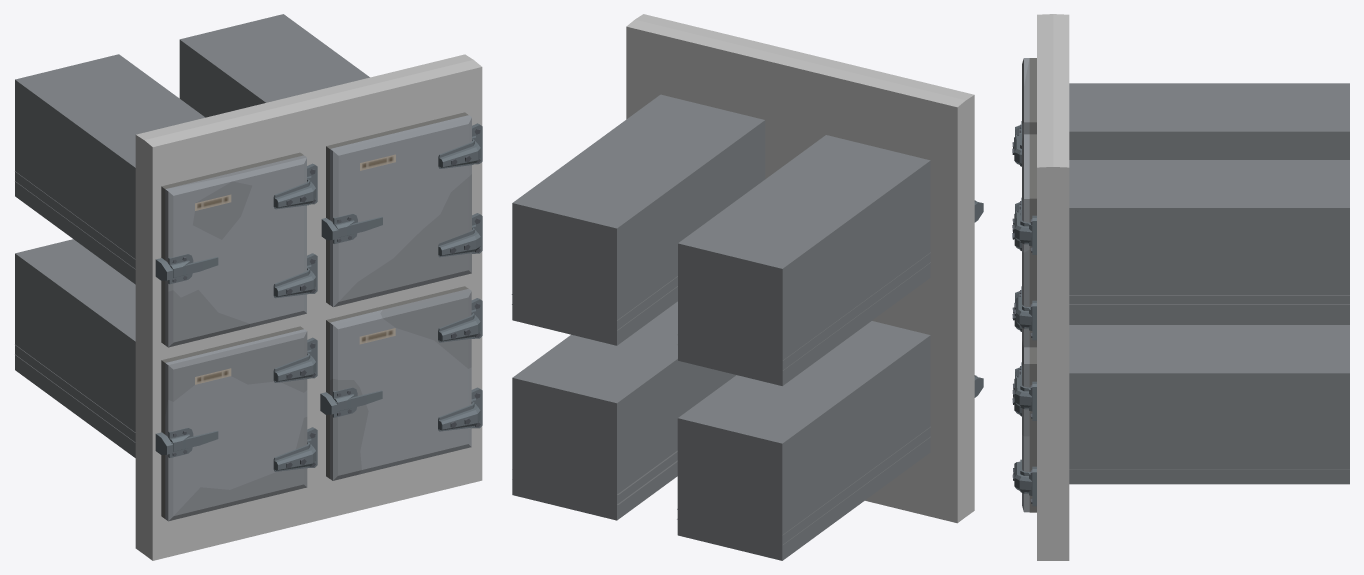
The model's file is SM_Prop_Morgue_Wall_01.fbx.
3 views of the same model, side by side, from view 1: azimuth 30°, elevation 25°; view 2: azimuth 150°, elevation 25°; view 3: azimuth 270°, elevation 25° (orthographic). The views are drawn at different scales.
Visible parts, largest first — view 1: SM_Prop_Morgue_Wall_01, SM_Prop_Morgue_Top_L_01, SM_Prop_Morgue_Door_Bottom_L_01, SM_Prop_Morgue_Door_Top_L_01, SM_Prop_Morgue_Door_Bottom_R_01, SM_Prop_Morgue_Door_Top_R_01, SM_Prop_Morgue_Bottom_L_06, SM_Prop_Morgue_Top_R_01, SM_Prop_Morgue_Bottom_R_01; view 2: SM_Prop_Morgue_Wall_01, SM_Prop_Morgue_Top_L_01, SM_Prop_Morgue_Bottom_L_06, SM_Prop_Morgue_Top_R_01, SM_Prop_Morgue_Bottom_R_01; view 3: SM_Prop_Morgue_Top_R_01, SM_Prop_Morgue_Bottom_R_01, SM_Prop_Morgue_Top_L_01, SM_Prop_Morgue_Wall_01, SM_Prop_Morgue_Door_Top_R_01, SM_Prop_Morgue_Door_Bottom_R_01, SM_Prop_Morgue_Bottom_L_06, SM_Prop_Morgue_Door_Top_L_01.
Boxes of the visible parts, left/top/right/bottom form: SM_Prop_Morgue_Wall_01: left=135, top=54, right=482, bottom=560; SM_Prop_Morgue_Top_L_01: left=15, top=54, right=303, bottom=344; SM_Prop_Morgue_Door_Bottom_L_01: left=165, top=329, right=315, bottom=521; SM_Prop_Morgue_Door_Top_L_01: left=165, top=155, right=315, bottom=347; SM_Prop_Morgue_Door_Bottom_R_01: left=330, top=289, right=480, bottom=480; SM_Prop_Morgue_Door_Top_R_01: left=330, top=115, right=480, bottom=307; SM_Prop_Morgue_Bottom_L_06: left=15, top=239, right=303, bottom=518; SM_Prop_Morgue_Top_R_01: left=179, top=14, right=468, bottom=304; SM_Prop_Morgue_Bottom_R_01: left=326, top=286, right=468, bottom=478; SM_Prop_Morgue_Wall_01: left=626, top=14, right=983, bottom=523; SM_Prop_Morgue_Top_L_01: left=677, top=135, right=930, bottom=385; SM_Prop_Morgue_Bottom_L_06: left=677, top=321, right=930, bottom=560; SM_Prop_Morgue_Top_R_01: left=511, top=94, right=765, bottom=345; SM_Prop_Morgue_Bottom_R_01: left=512, top=301, right=736, bottom=520; SM_Prop_Morgue_Top_R_01: left=1029, top=134, right=1349, bottom=347; SM_Prop_Morgue_Bottom_R_01: left=1029, top=325, right=1349, bottom=512; SM_Prop_Morgue_Top_L_01: left=1029, top=58, right=1349, bottom=159; SM_Prop_Morgue_Wall_01: left=1015, top=14, right=1069, bottom=560; SM_Prop_Morgue_Door_Top_R_01: left=1012, top=134, right=1032, bottom=347; SM_Prop_Morgue_Door_Bottom_R_01: left=1012, top=341, right=1032, bottom=512; SM_Prop_Morgue_Bottom_L_06: left=1069, top=319, right=1349, bottom=324; SM_Prop_Morgue_Door_Top_L_01: left=1012, top=58, right=1029, bottom=250.
Size of the model in its own units: 250 by 301 by 233.
